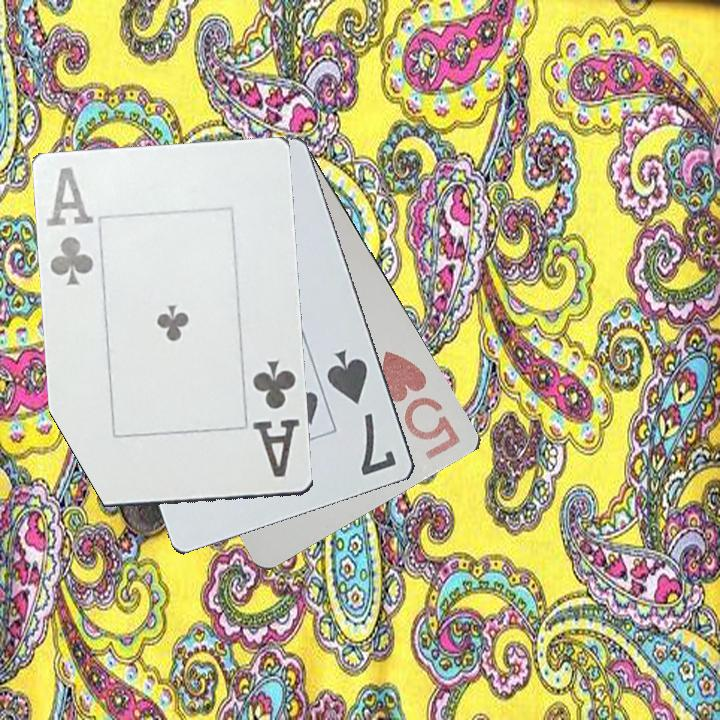5h: (378, 347, 464, 463)
7s: (323, 346, 400, 479)
Ac: (43, 164, 98, 289), (249, 356, 303, 481)
